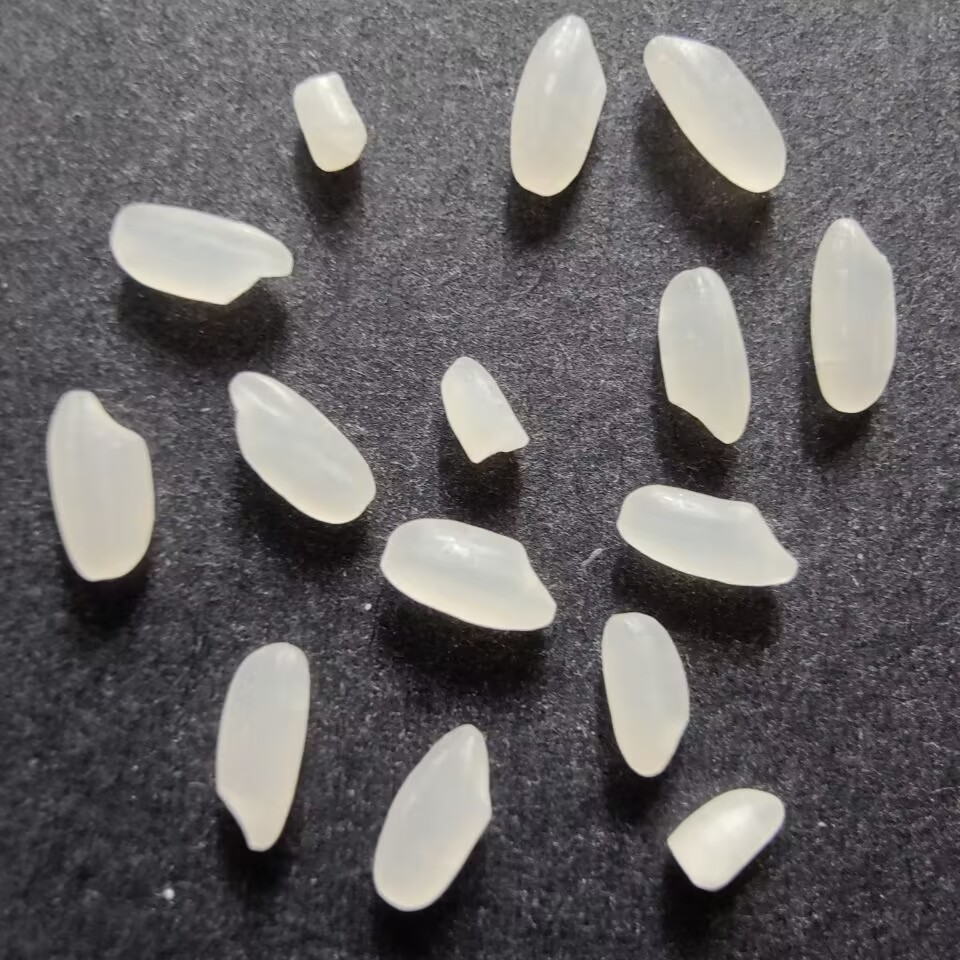broken: (662, 787, 788, 891), (439, 352, 534, 465), (286, 71, 373, 178)
rice: (638, 31, 791, 196), (225, 368, 381, 526), (372, 720, 499, 914), (42, 387, 159, 585), (210, 639, 317, 854), (373, 514, 562, 635), (103, 199, 296, 310), (612, 482, 805, 593), (652, 264, 758, 448), (506, 10, 609, 198), (807, 212, 900, 416), (598, 608, 696, 780)
